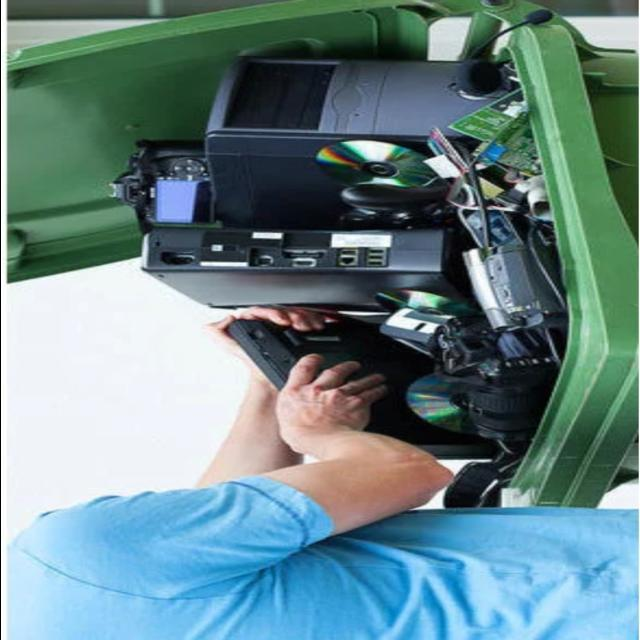E_waste: (204, 58, 486, 229), (227, 318, 495, 459), (142, 229, 461, 311), (406, 318, 556, 441), (110, 140, 210, 231), (452, 9, 552, 99), (463, 245, 565, 330), (448, 89, 538, 172), (314, 140, 435, 186), (340, 184, 445, 211), (442, 462, 501, 508), (374, 290, 478, 316)
Garbage: (113, 10, 566, 508)
